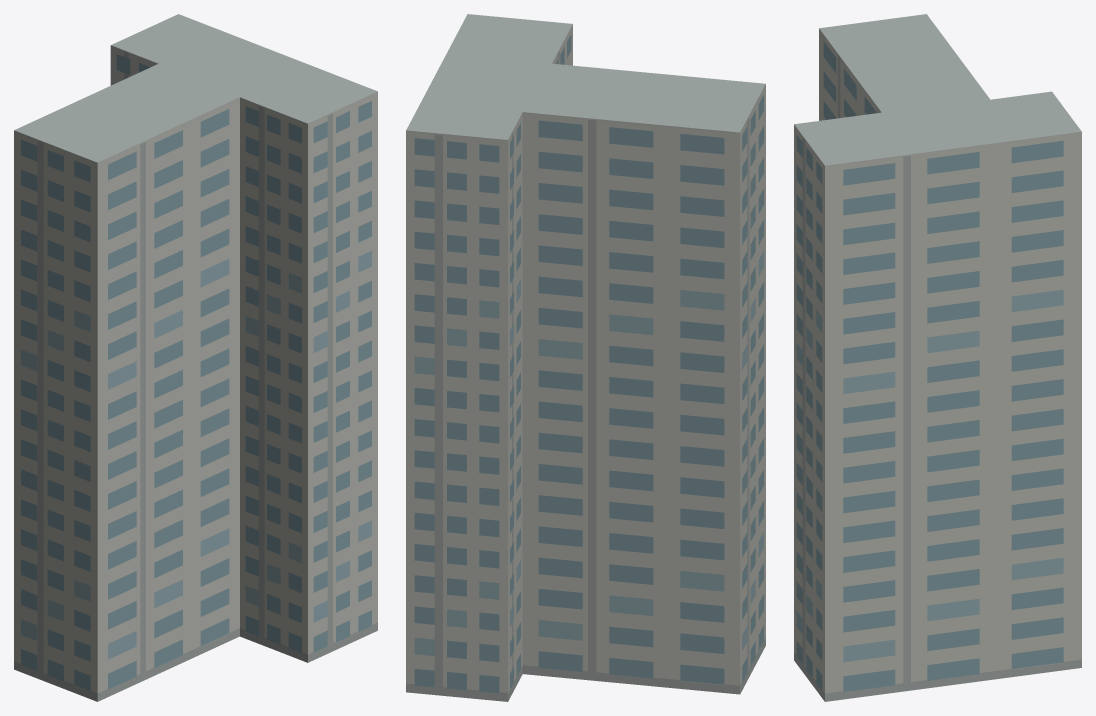
Rendered from residential-e54b97b4-650a-4d8e-af34-addd27ea29a1.glb.
The picture shows the model from 3 angles, left to right: view 1: azimuth 30°, elevation 25°; view 2: azimuth 150°, elevation 25°; view 3: azimuth 270°, elevation 25°; orthographic projection. The views are drawn at different scales.
Visible parts, largest first — view 1: residential-e54b97b4-650a-4d8e-af34-addd27ea29a1.tmp; view 2: residential-e54b97b4-650a-4d8e-af34-addd27ea29a1.tmp; view 3: residential-e54b97b4-650a-4d8e-af34-addd27ea29a1.tmp.
Boxes of the visible parts, <box> form: residential-e54b97b4-650a-4d8e-af34-addd27ea29a1.tmp: <box>14,14,377,701</box>; residential-e54b97b4-650a-4d8e-af34-addd27ea29a1.tmp: <box>406,14,765,701</box>; residential-e54b97b4-650a-4d8e-af34-addd27ea29a1.tmp: <box>794,14,1081,701</box>.
Size of the model in its own units: 53.42 by 88 by 42.81.
